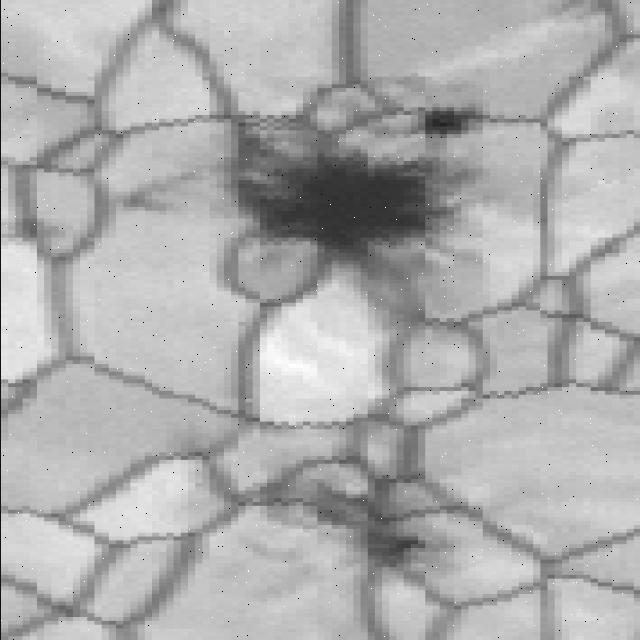good_void: (215, 100, 512, 287), (191, 457, 478, 615), (109, 156, 213, 234), (405, 95, 492, 151)
